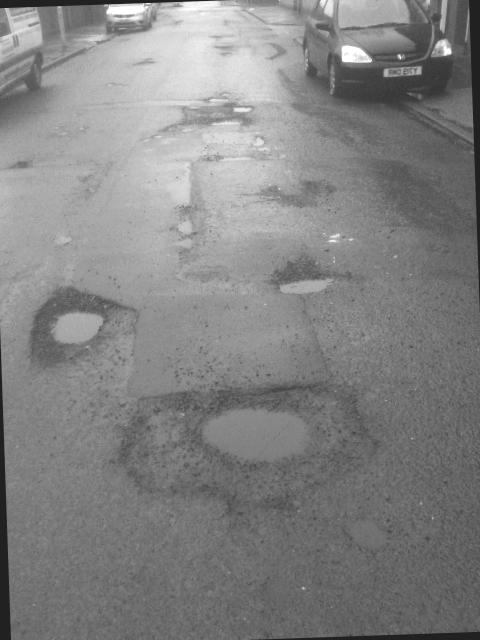Pothole: (103, 363, 390, 521), (28, 274, 124, 372), (261, 253, 352, 302)
